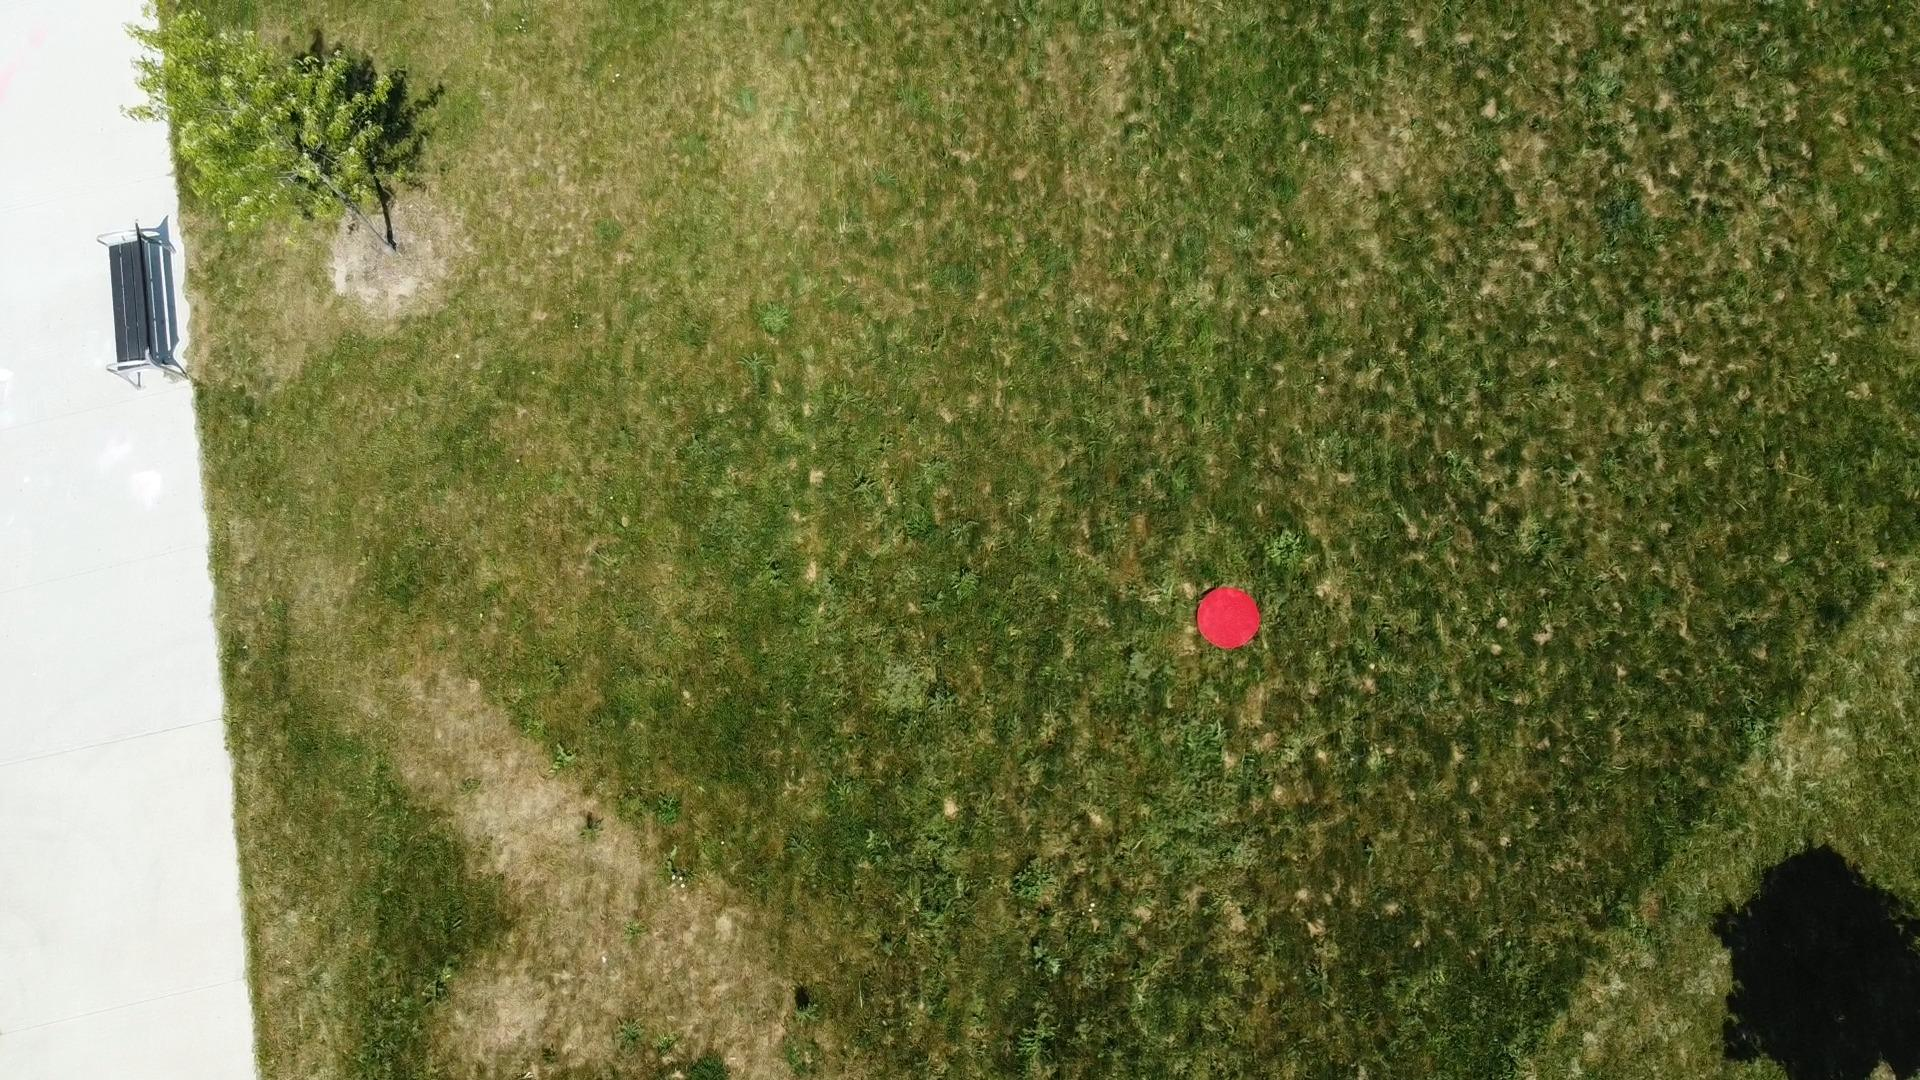Red: (1192, 584, 1263, 653)
